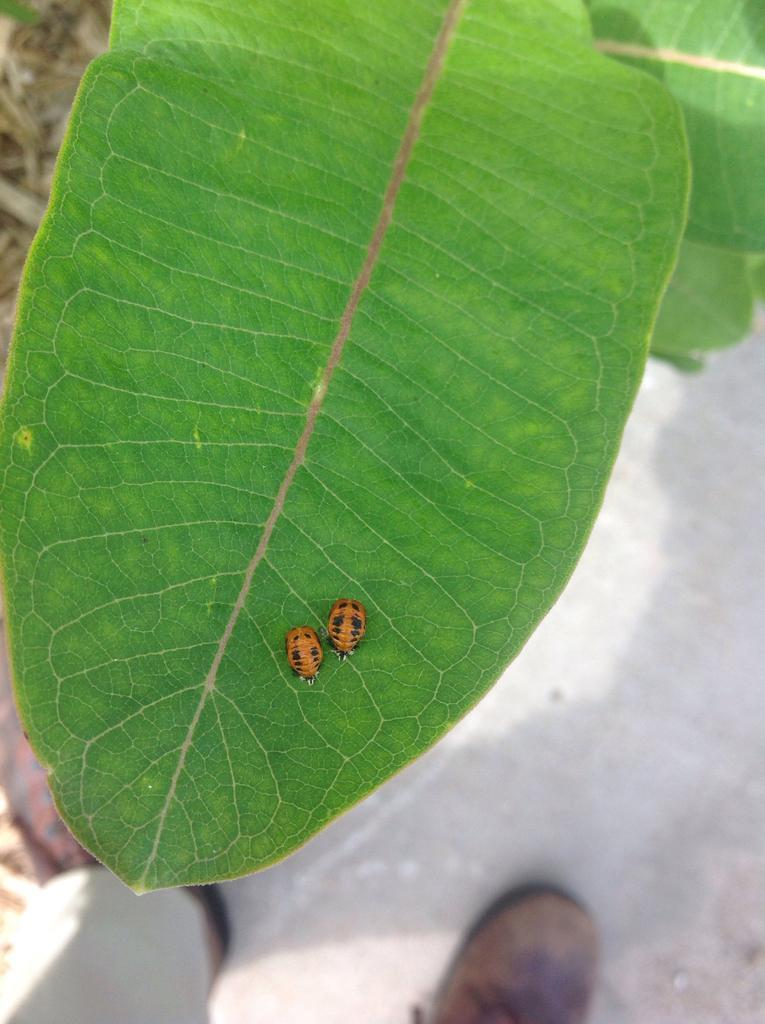ladybug: (325, 599, 369, 663), (286, 626, 326, 687)
